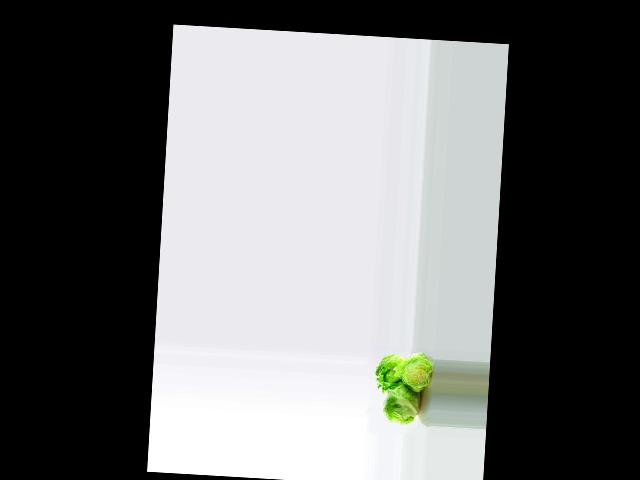lettuce: (371, 352, 407, 396)
